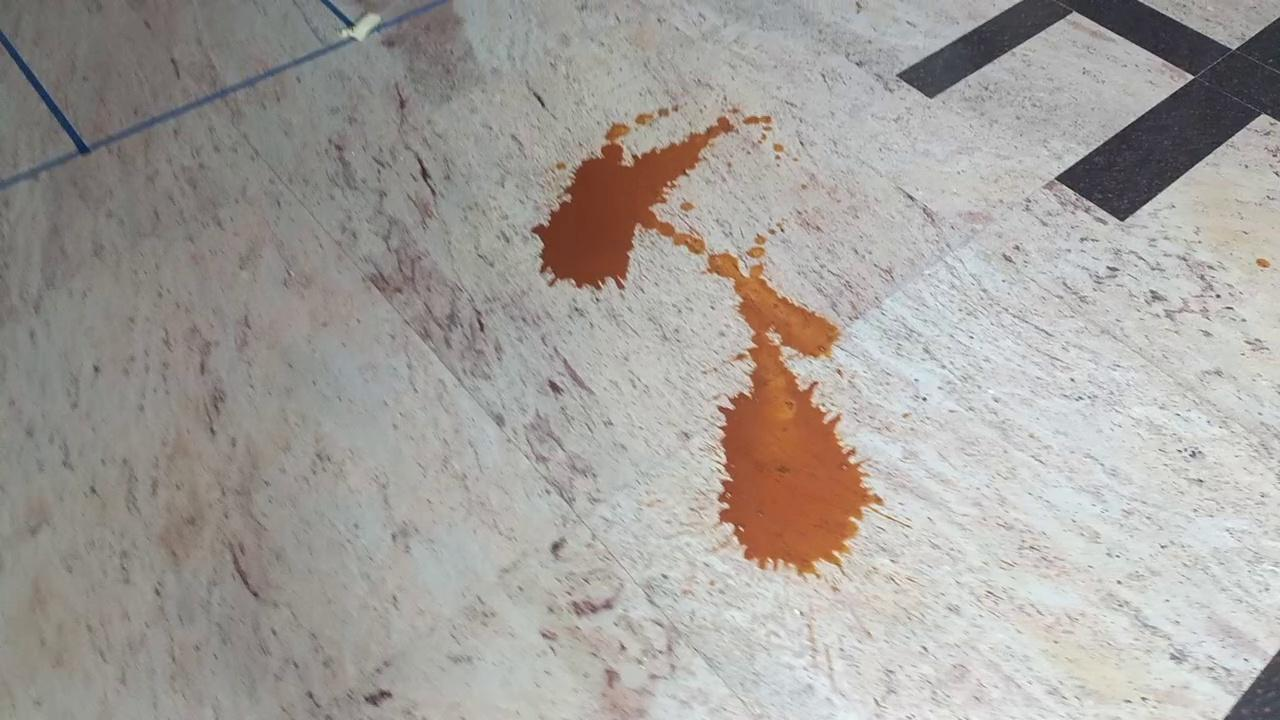dirty_floor: (531, 100, 883, 580)
